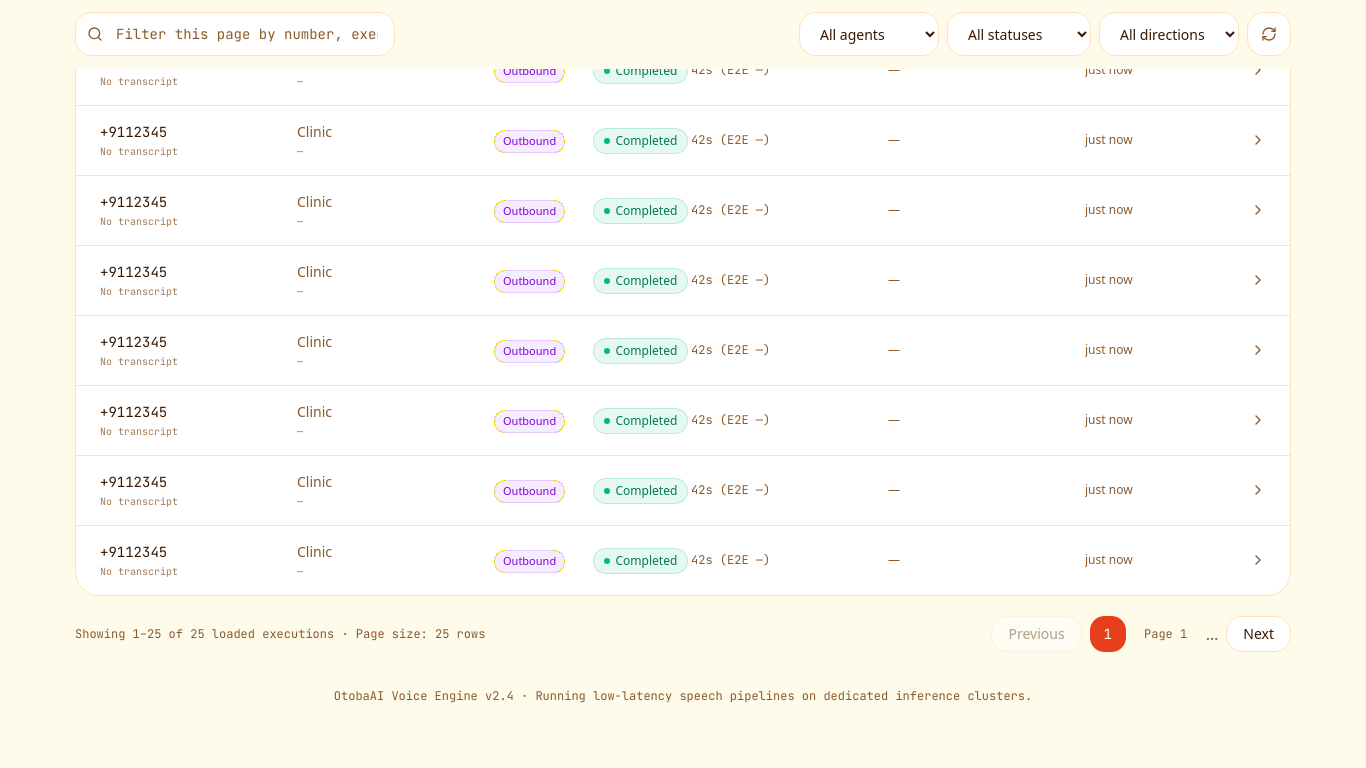
it: CallsPage › pages with offset and disables prev on page one
(page scrolled)
Expected: the text "Page 1" is shown, x1=1144 y1=626 x2=1187 y2=642
Expected: the button with aria-label "Previous page" is disabled, x1=992 y1=616 x2=1082 y2=652
What coordinates should you click on to do the following:
click the button with aria-label "Next page"
I would click on:
 (1259, 634)
Its box is x1=1226 y1=616 x2=1291 y2=652.
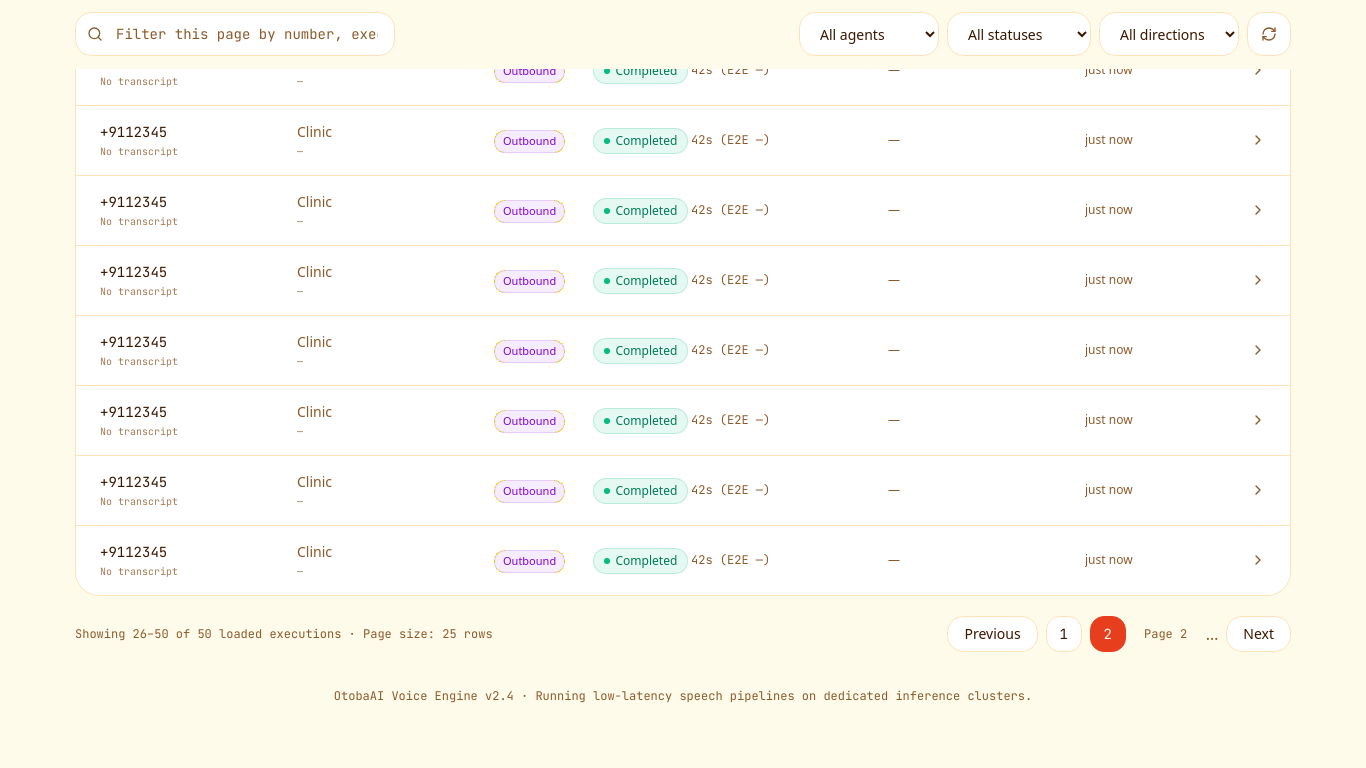
Result: the text "Page 2" is shown at x1=1144 y1=626 x2=1187 y2=642
